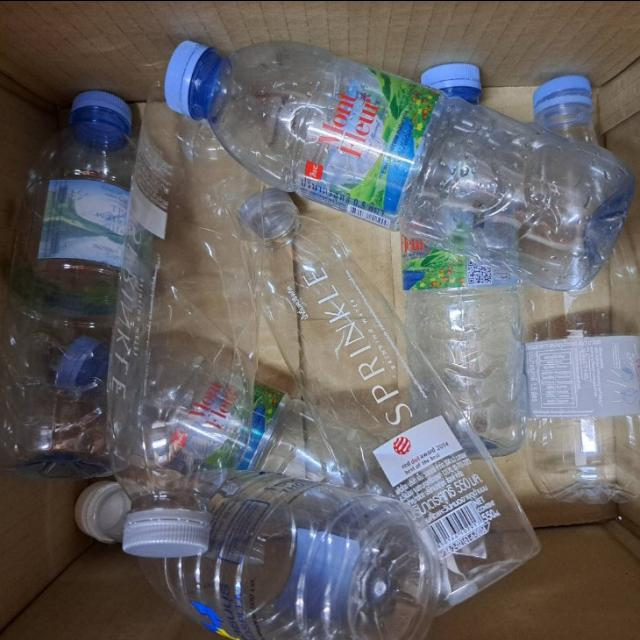plastik: (240, 188, 538, 605), (165, 40, 635, 288), (107, 99, 262, 555), (0, 90, 135, 476), (142, 471, 438, 640)
